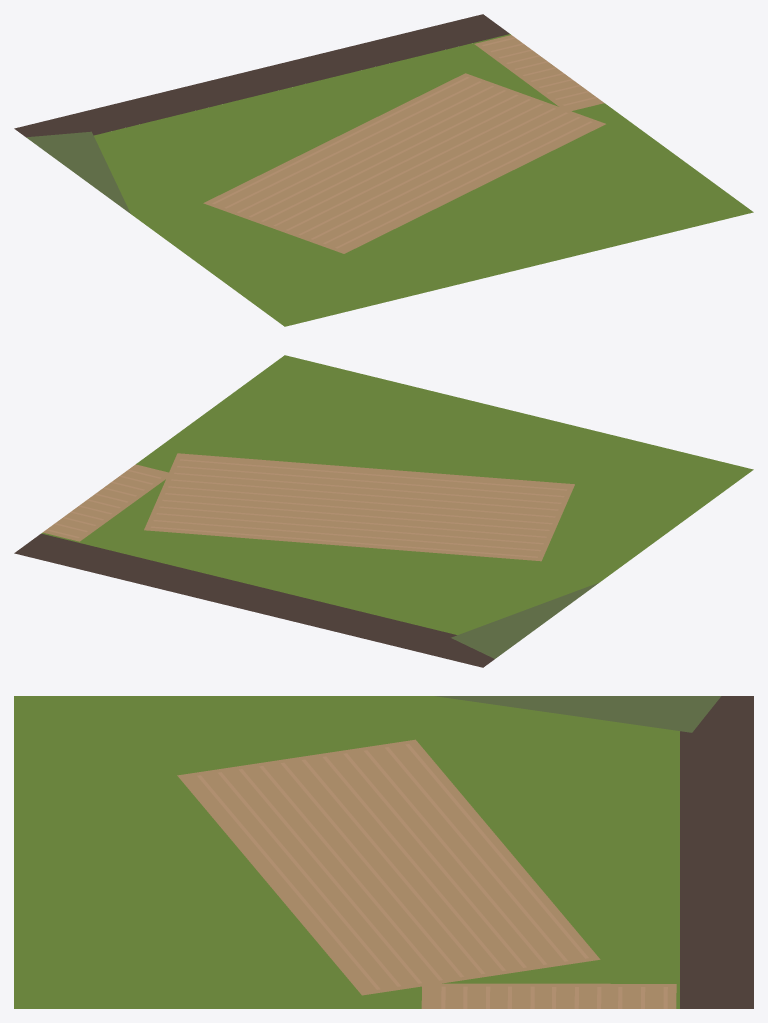
Rendered from crossing-3-5.glb.
The picture shows the model from 3 angles, top to bottom: view 1: azimuth 30°, elevation 25°; view 2: azimuth 150°, elevation 25°; view 3: azimuth 270°, elevation 25°; orthographic projection. The views are drawn at different scales.
Visible parts, largest first — view 1: crossing-3-5; view 2: crossing-3-5; view 3: crossing-3-5.
Boxes of the visible parts, left/top/right/bottom form: crossing-3-5: left=14, top=14, right=753, bottom=326; crossing-3-5: left=14, top=355, right=753, bottom=667; crossing-3-5: left=14, top=696, right=753, bottom=1008.
Bounding box in the file's own units: 100 × 0.0064 × 100.
